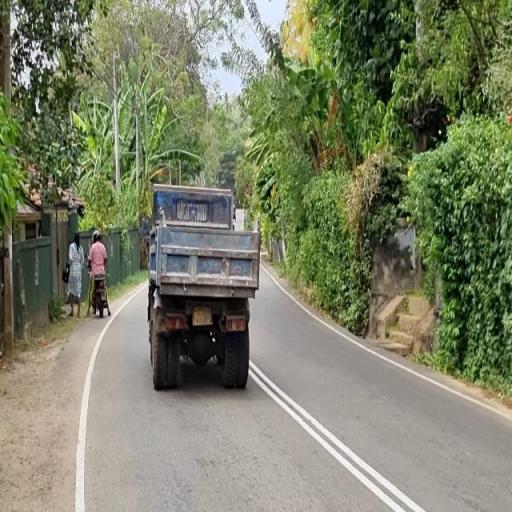double_white_line: (247, 359, 430, 512)
